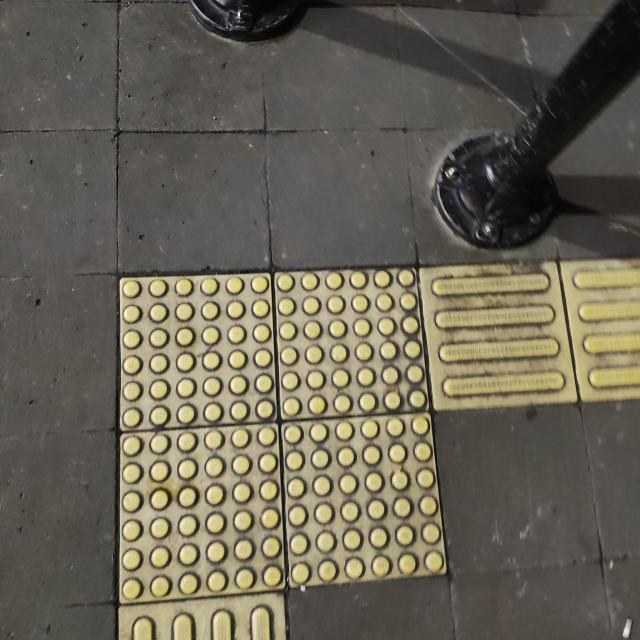kanan: (59, 196, 640, 640)
